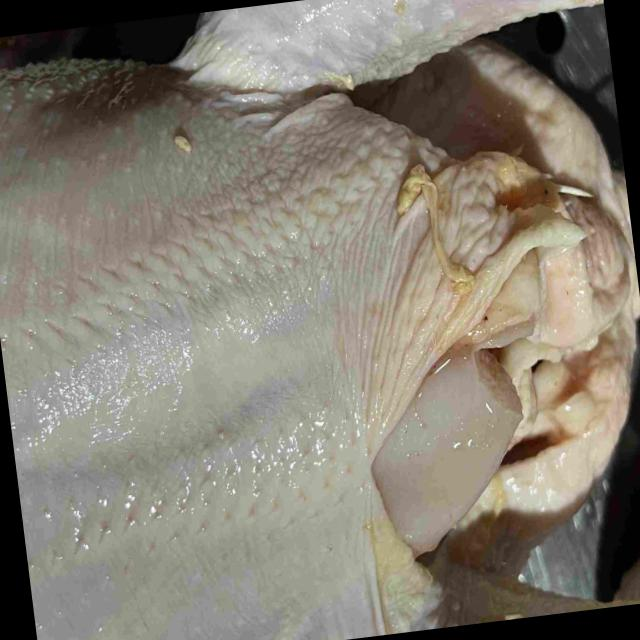breast: (0, 63, 505, 640)
leg: (177, 0, 605, 100), (290, 563, 640, 640)
